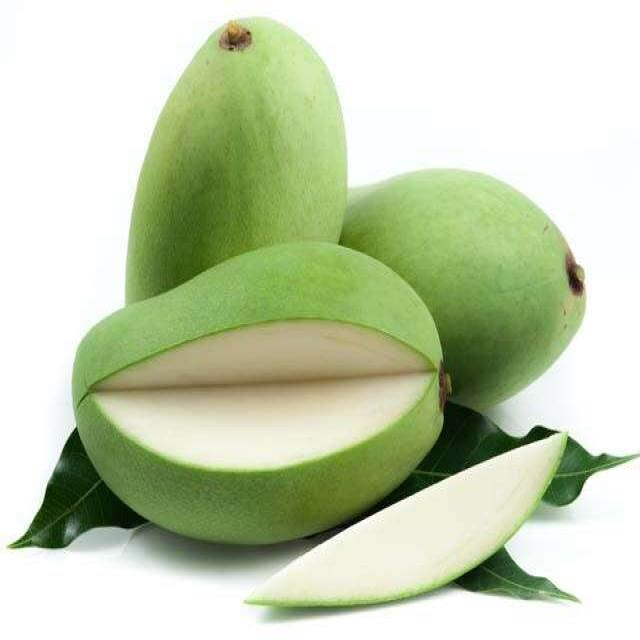raw-image: (42, 300, 466, 538), (362, 158, 634, 422), (154, 18, 352, 280)
